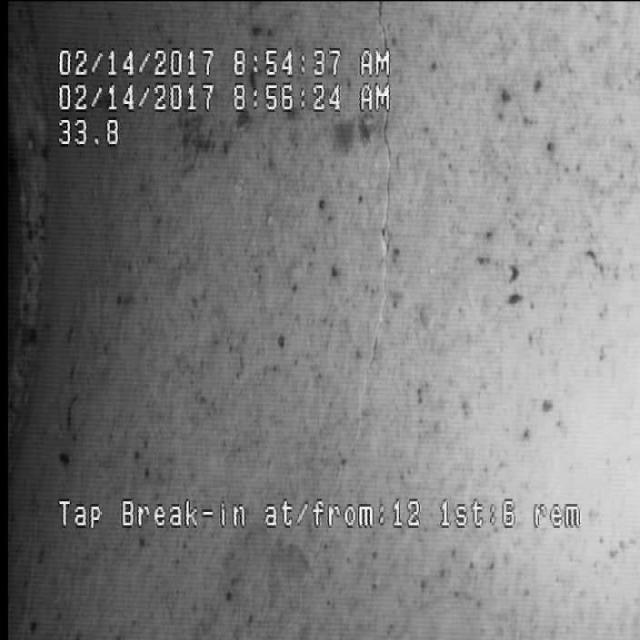Crack: (351, 134, 427, 388)
